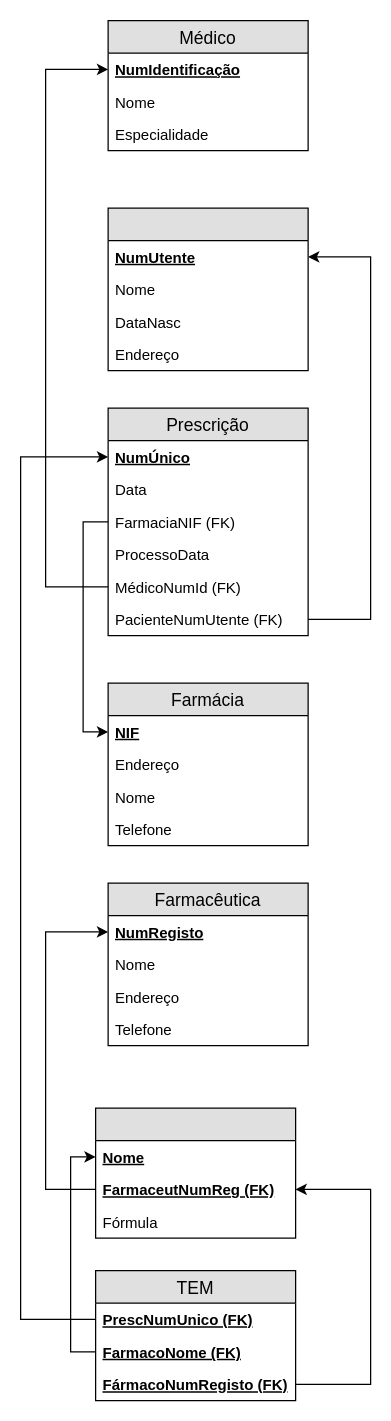
The diagram is 391 pixels wide and 1421 high, and some of its shapes have lost their labels. Each missing label, with the box of its shape:
Fármaco: (94, 1107, 296, 1238)
Paciente: (107, 207, 308, 371)
